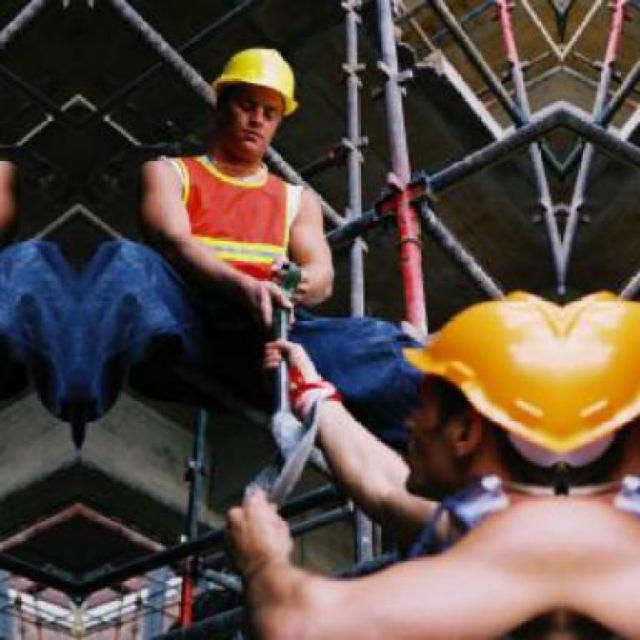Reflective-Jacket: (142, 145, 330, 323)
Safety-Helmet: (397, 284, 569, 476), (554, 284, 640, 464), (200, 38, 311, 122)
